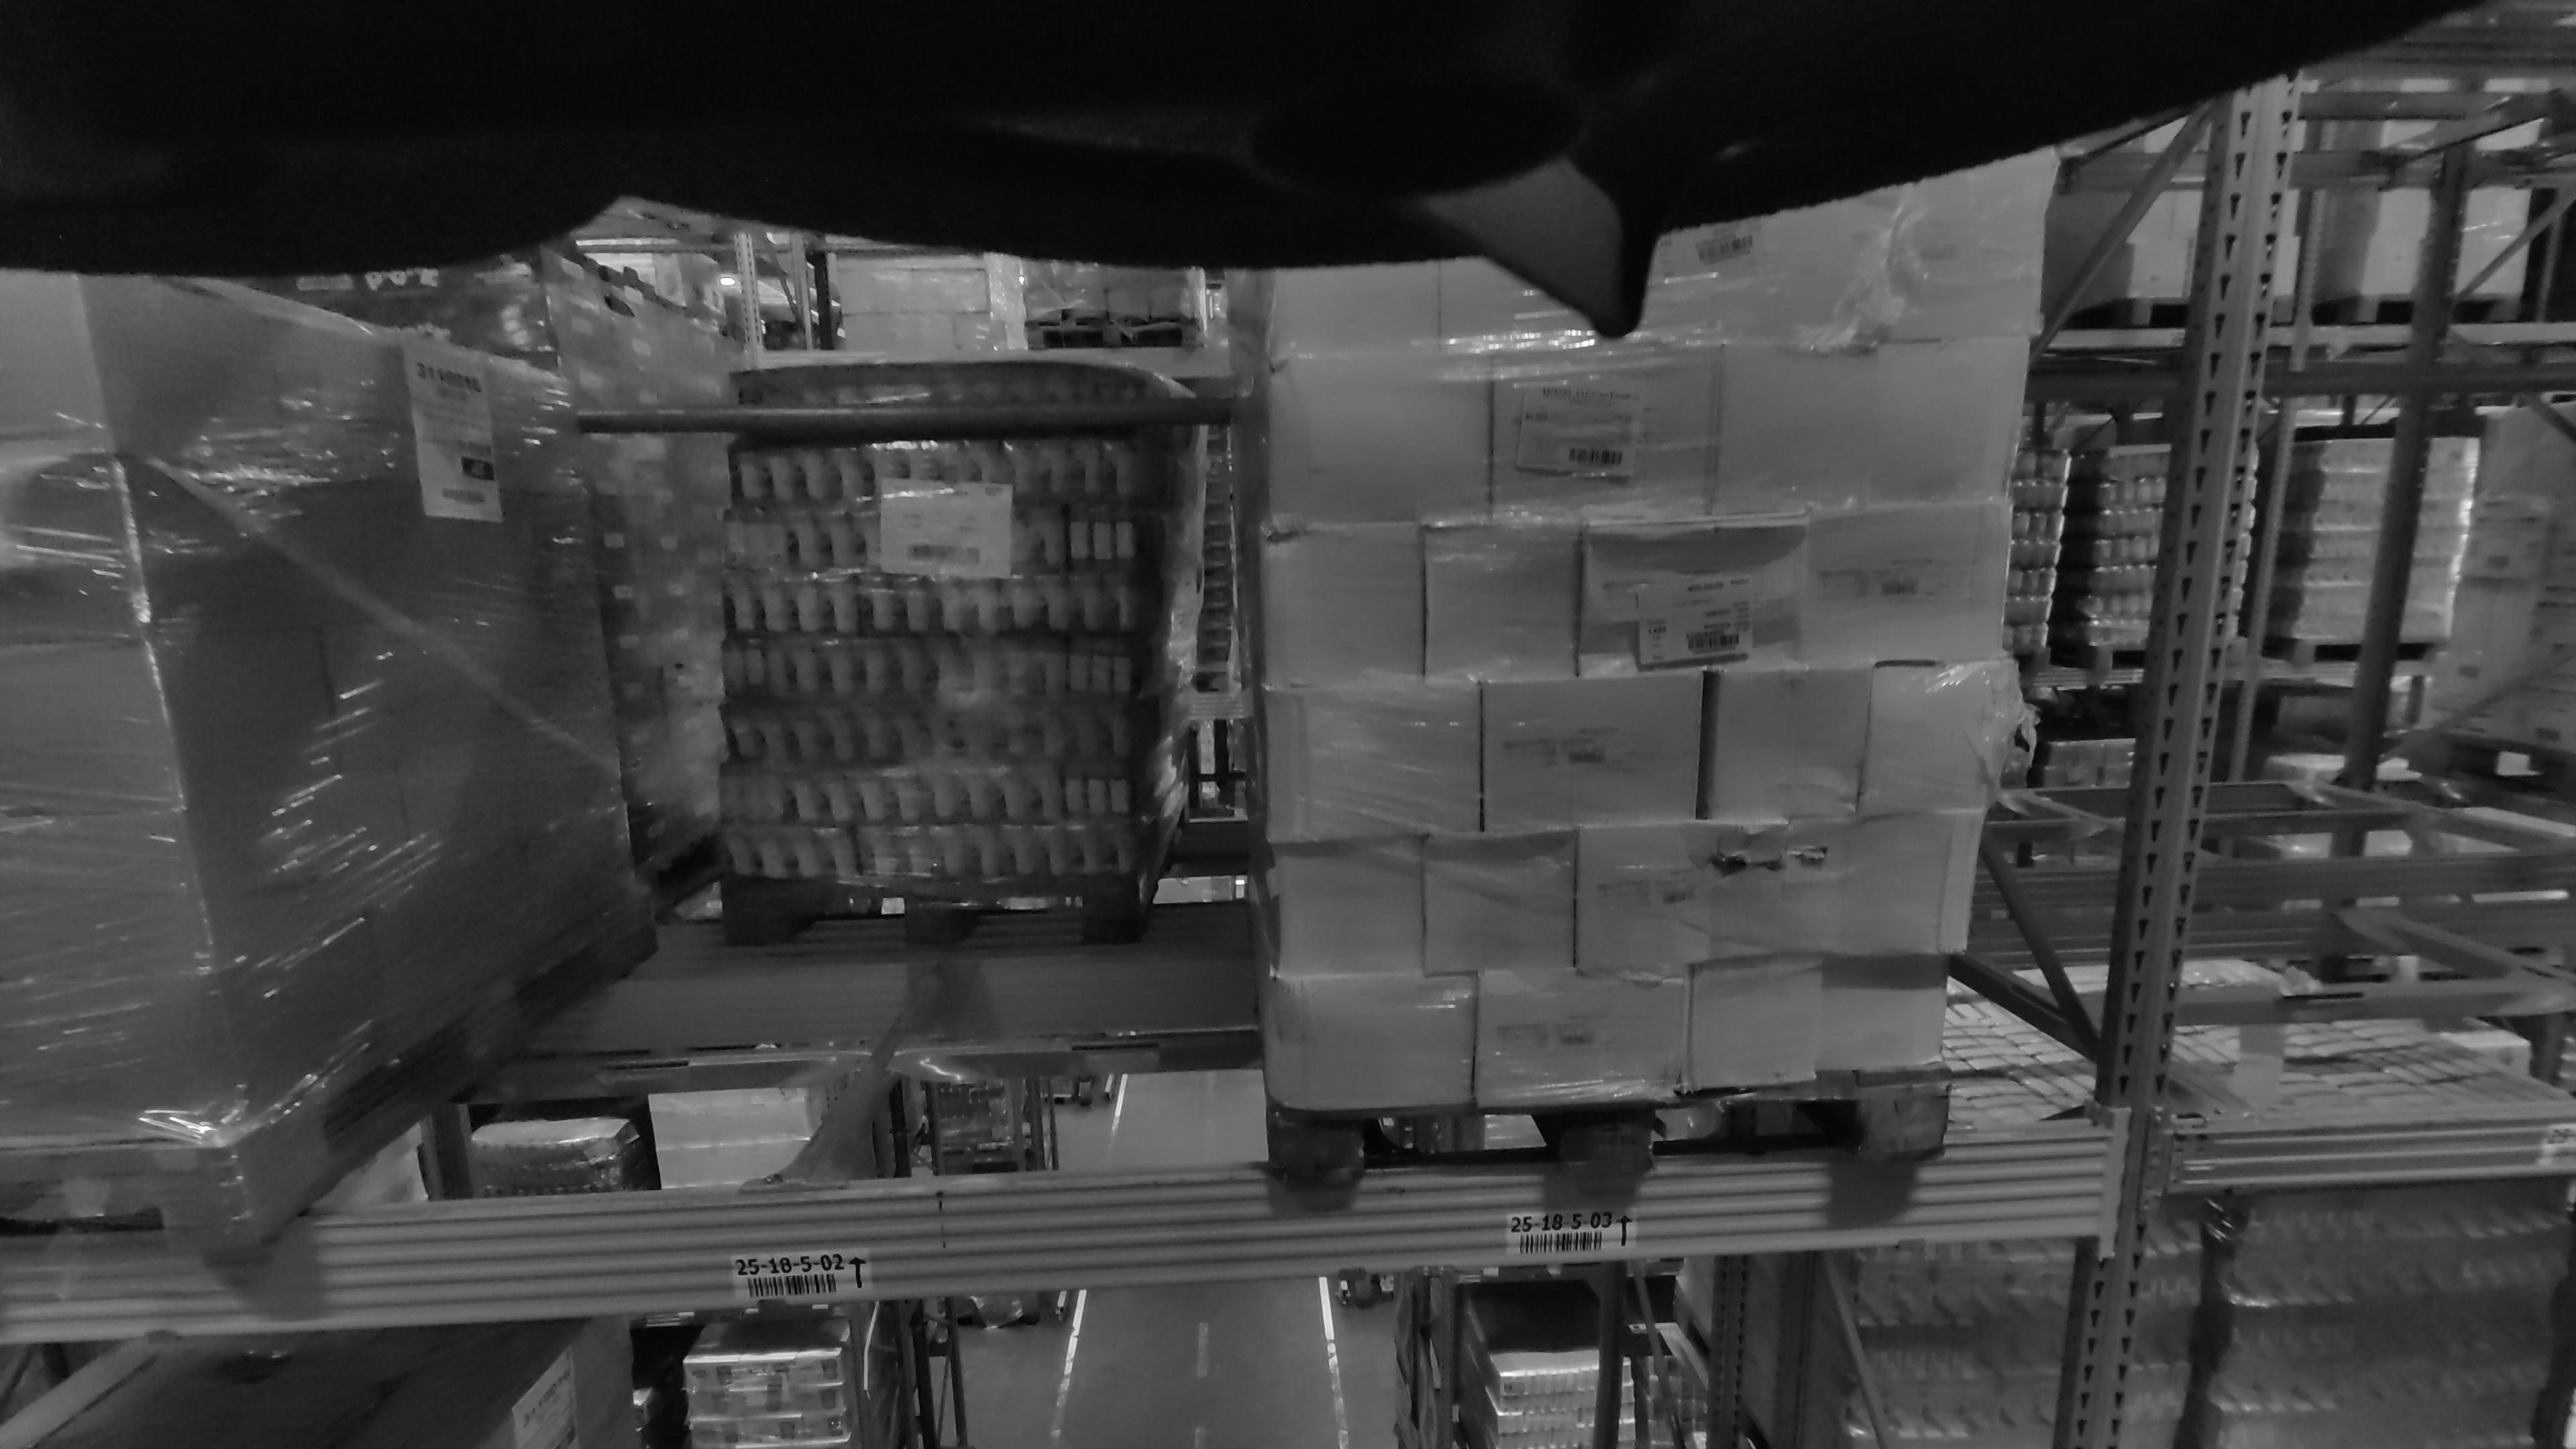empty-shelf: (478, 209, 1192, 1175), (2167, 60, 2576, 1125), (2259, 384, 2569, 837), (2033, 380, 2160, 853)
